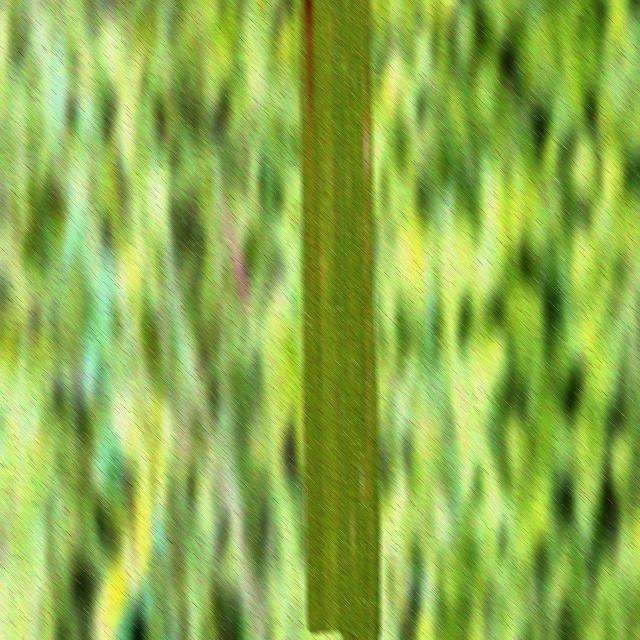NBS: (304, 0, 311, 80)
